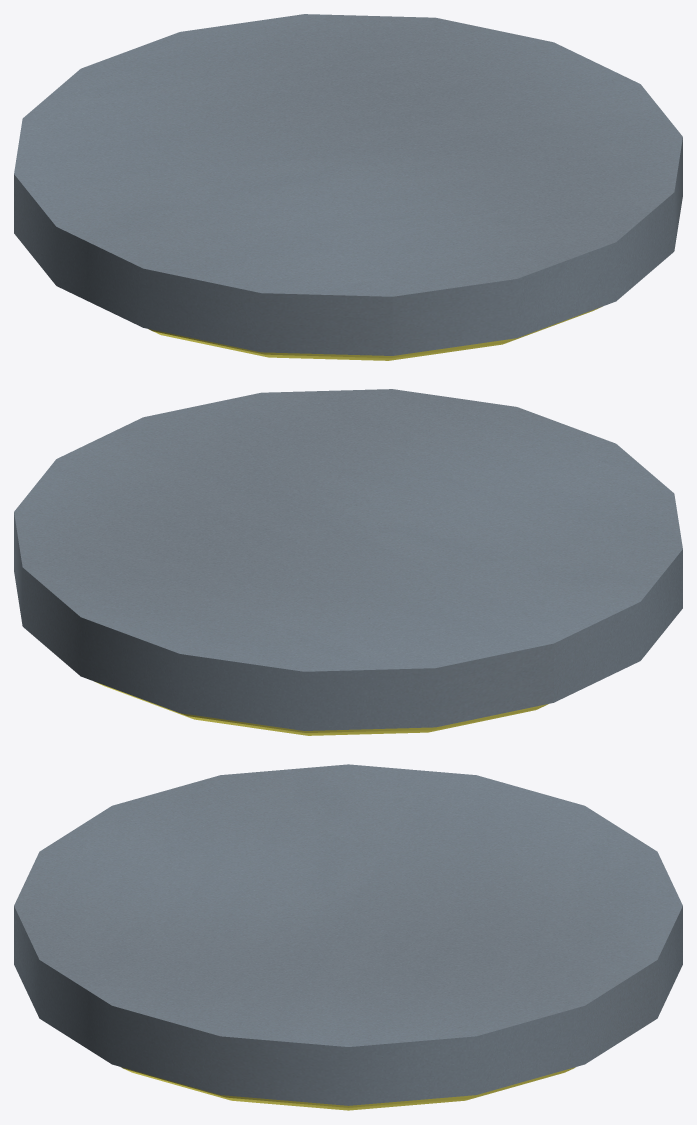
File: IndoorLight.fbx
3 views of the same model, one above another, from view 1: azimuth 30°, elevation 25°; view 2: azimuth 150°, elevation 25°; view 3: azimuth 270°, elevation 25° (orthographic).
Visible parts, largest first — view 1: IndoorLight; view 2: IndoorLight; view 3: IndoorLight.
Part boxes in pixels (x1,y1,x2,y2): IndoorLight: (14,14,682,360); IndoorLight: (14,389,682,735); IndoorLight: (14,764,682,1110).
Bounding box in the file's own units: 90.13 × 17.51 × 90.13.
2 materials, 1 textured.
